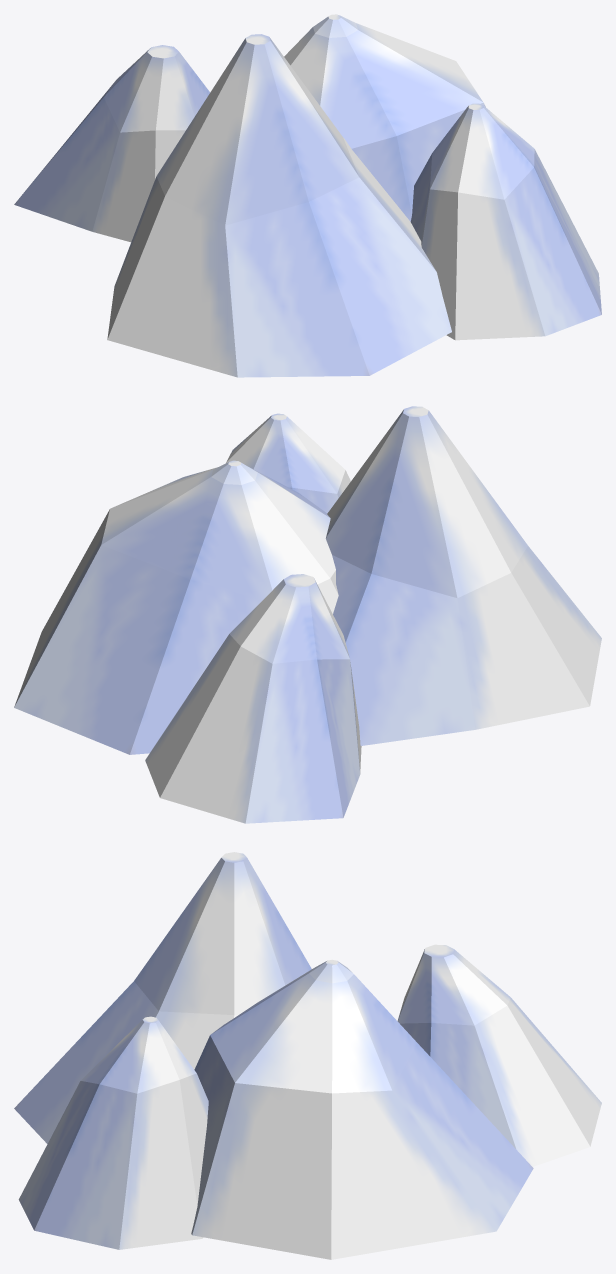
File: Poly_World_Map_Mountain_Snow_01.obj
3 renders of one model, top to bottom at view 1: azimuth 30°, elevation 25°; view 2: azimuth 150°, elevation 25°; view 3: azimuth 270°, elevation 25°, orthographic. The views are drawn at different scales.
Parts seen in each view (by area): view 1: Cube.002_Cube.002, Cube.002_Cube.003, Cube.002_Cube.001; view 2: Cube.002_Cube.002, Cube.002_Cube.001, Cube.002_Cube.003; view 3: Cube.002_Cube.001, Cube.002_Cube.003, Cube.002_Cube.002.
Part boxes in pixels (x1,y1,x2,y2): Cube.002_Cube.002: (107, 34, 451, 377); Cube.002_Cube.003: (14, 45, 601, 340); Cube.002_Cube.001: (284, 14, 485, 221); Cube.002_Cube.002: (325, 406, 601, 745); Cube.002_Cube.001: (14, 460, 338, 754); Cube.002_Cube.003: (145, 413, 361, 823); Cube.002_Cube.001: (191, 959, 533, 1259); Cube.002_Cube.003: (18, 944, 601, 1249); Cube.002_Cube.002: (14, 852, 311, 1143).
Bounding box in the file's own units: 1.54 × 0.8052 × 1.67.
Materials: 1 (1 with a texture image).
